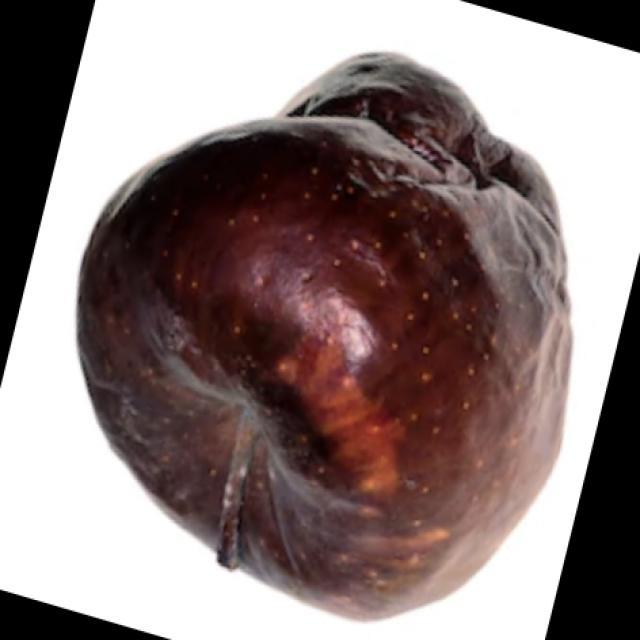Rotten: (103, 62, 580, 580)
